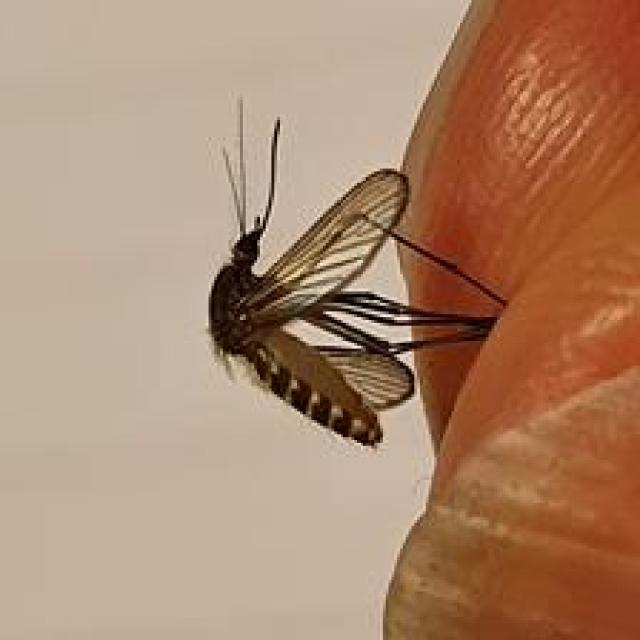Culex: (204, 93, 510, 450)
